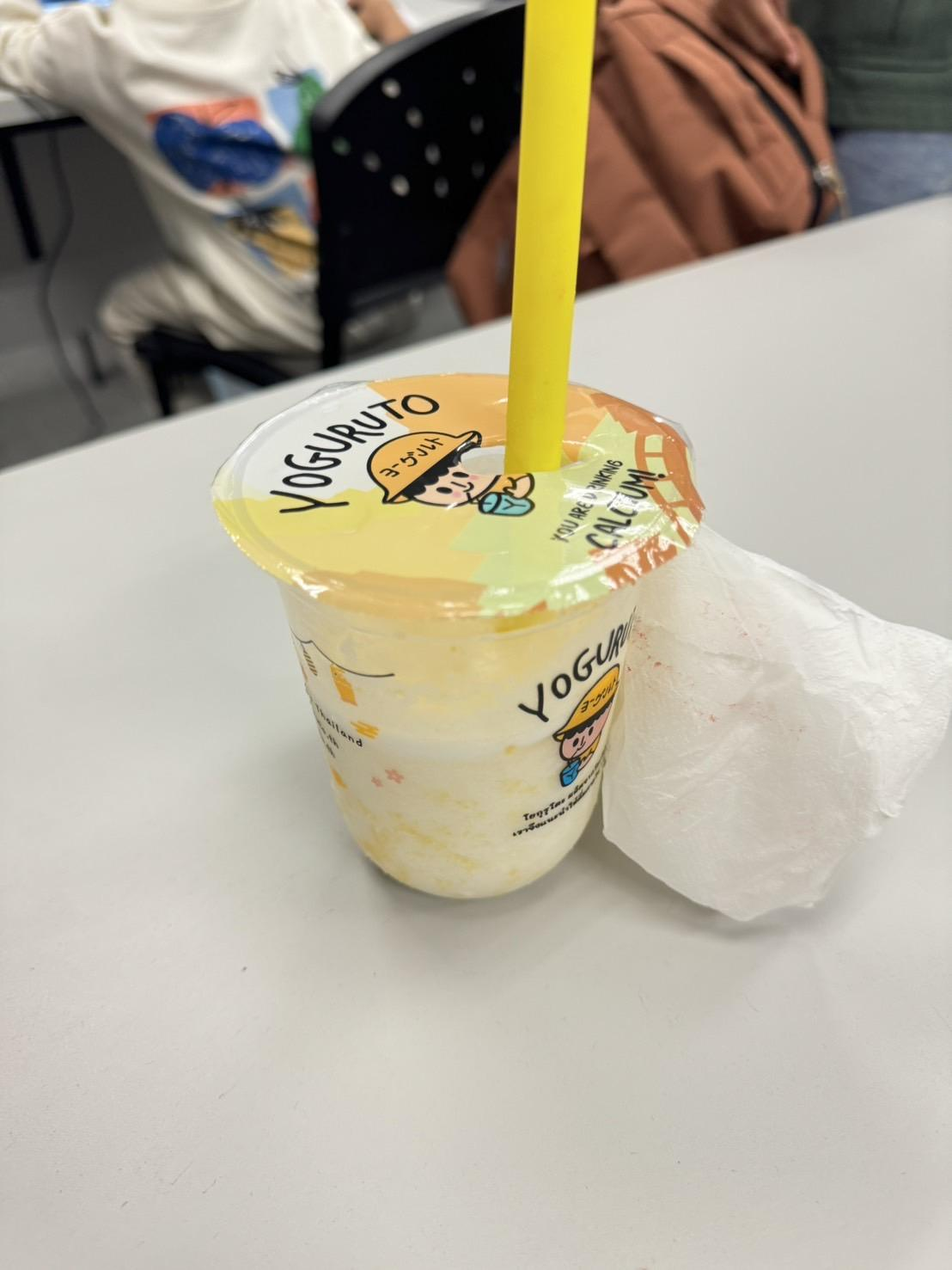cup: (212, 374, 703, 898)
